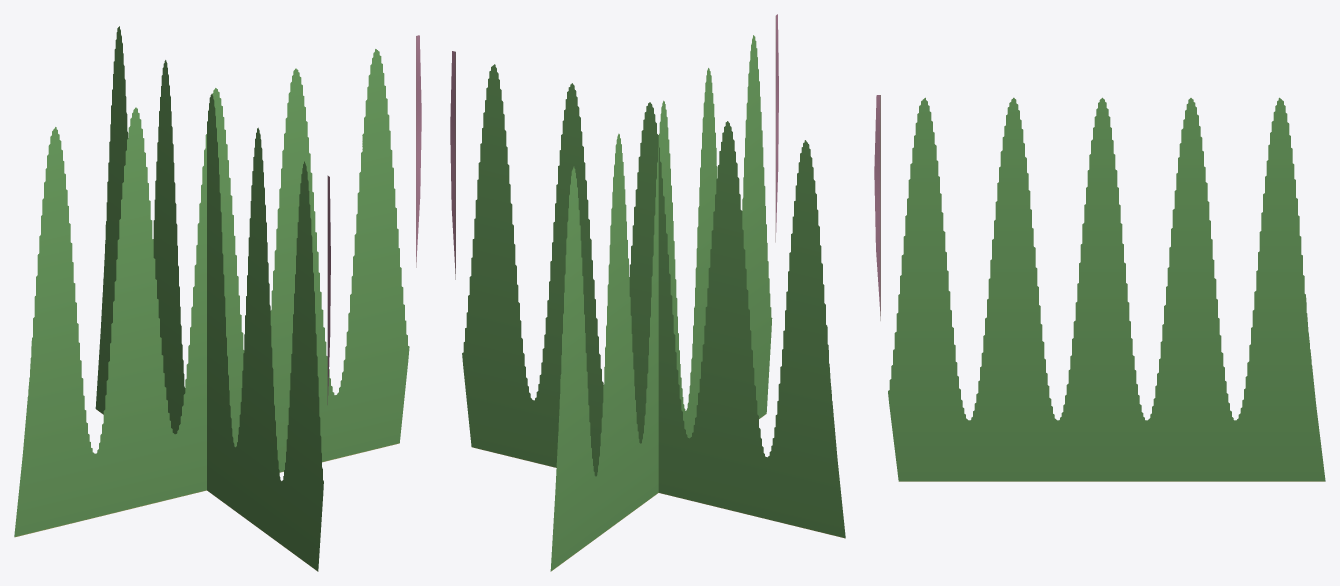
File: grass_tuft_b.glb
3 renders of one model, left to right at view 1: azimuth 30°, elevation 25°; view 2: azimuth 150°, elevation 25°; view 3: azimuth 270°, elevation 25°, orthographic. The views are drawn at different scales.
Visible parts, largest first — view 1: lod0; view 2: lod0; view 3: lod0.
Part boxes in pixels (x1,y1,x2,y2): lod0: (14,26,421,571); lod0: (450,14,845,571); lod0: (874,95,1325,481).
Size of the model in its own units: 0.74 by 0.7 by 0.74.
1 material, 1 textured.
